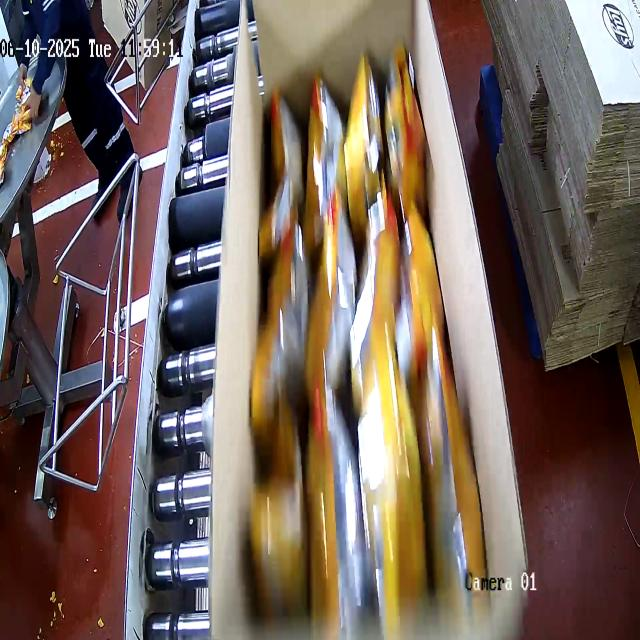FRENCH_CHEESE: (257, 66, 473, 592)
